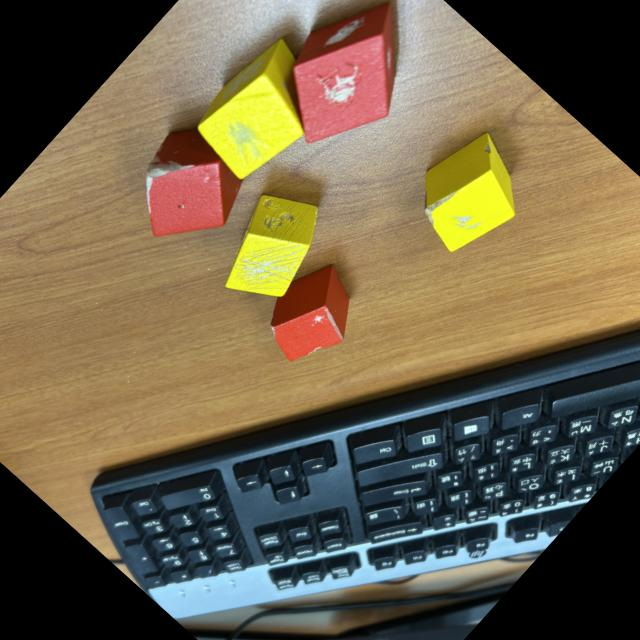broken: (254, 0, 443, 170), (111, 100, 274, 264), (180, 28, 342, 193), (394, 119, 544, 269), (198, 173, 343, 321), (250, 248, 378, 378)
